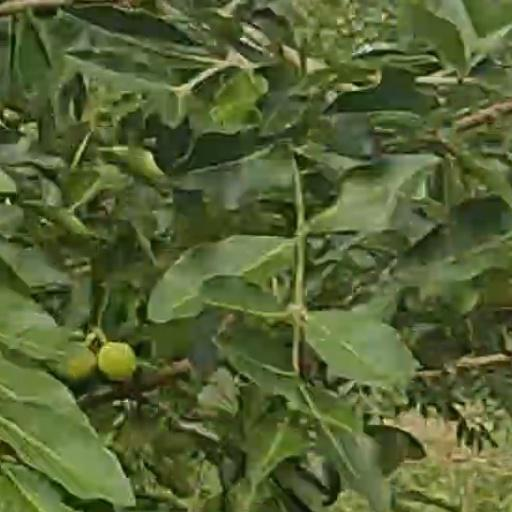acerola_verde: (99, 345, 137, 381)
